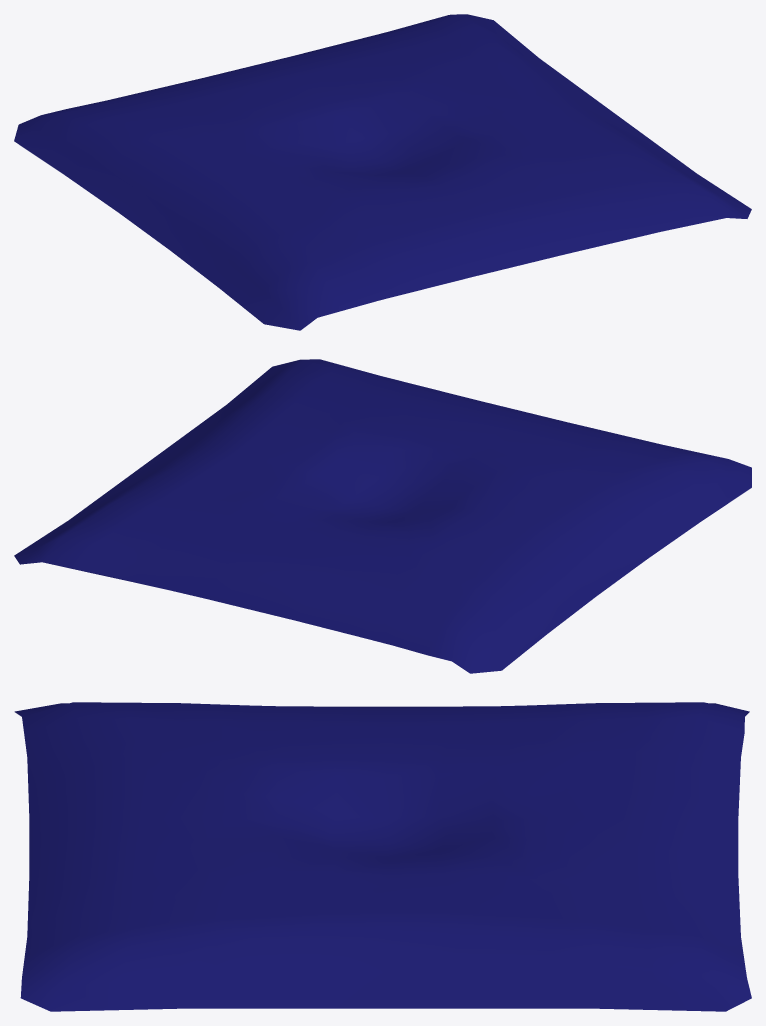
Rendered from Zabuton.fbx.
3 renders of one model, top to bottom at view 1: azimuth 30°, elevation 25°; view 2: azimuth 150°, elevation 25°; view 3: azimuth 270°, elevation 25°, orthographic. The views are drawn at different scales.
Visible parts, largest first — view 1: zabuton01; view 2: zabuton01; view 3: zabuton01.
Boxes of the visible parts, x1=… form: zabuton01: x1=14, y1=14, x2=751, y2=330; zabuton01: x1=14, y1=359, x2=751, y2=673; zabuton01: x1=14, y1=702, x2=751, y2=1011.
Bounding box in the file's own units: 35.39 × 3.73 × 35.78.
